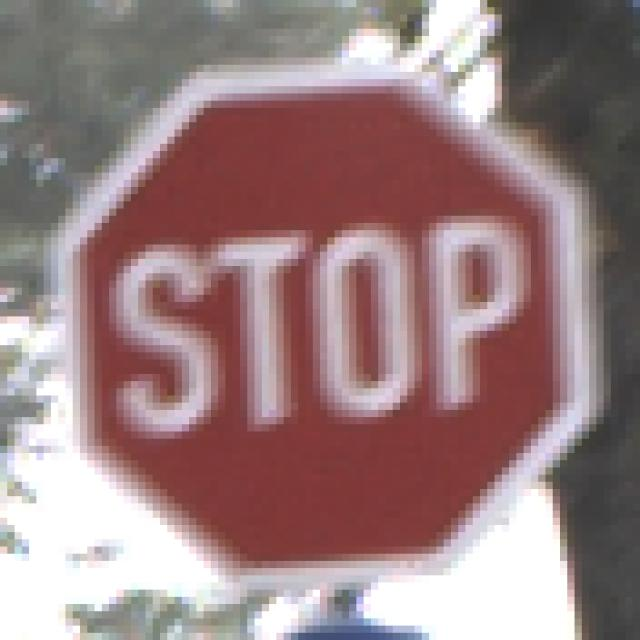STOP: (52, 59, 590, 591)
